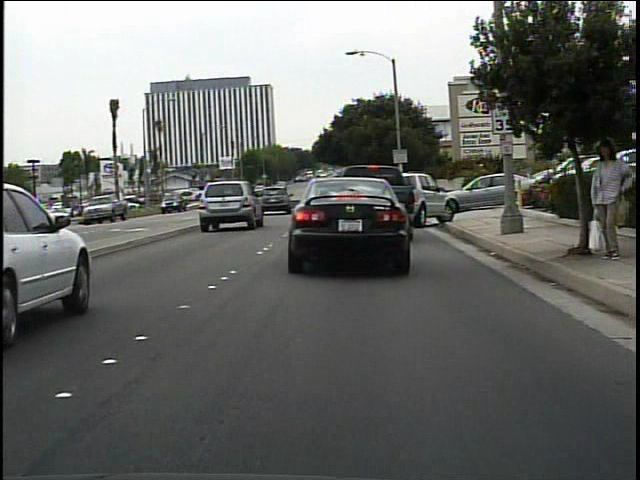person: (584, 136, 630, 263)
